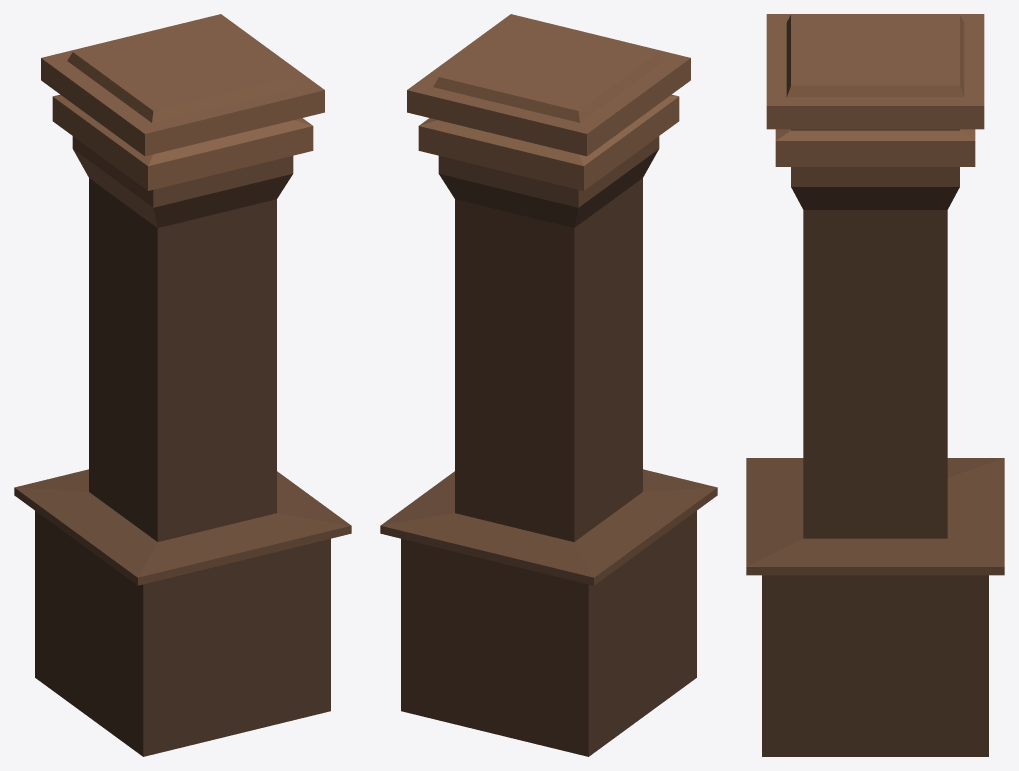
File: SM_Env_Port_Drydock_Small_Corner_01.fbx
3 renders of one model, left to right at view 1: azimuth 30°, elevation 25°; view 2: azimuth 150°, elevation 25°; view 3: azimuth 270°, elevation 25°, orthographic. The views are drawn at different scales.
Parts seen in each view (by area): view 1: SM_Env_Port_Drydock_Small_Corner_01; view 2: SM_Env_Port_Drydock_Small_Corner_01; view 3: SM_Env_Port_Drydock_Small_Corner_01.
Part boxes in pixels (bbox=[...]): SM_Env_Port_Drydock_Small_Corner_01: bbox=[14, 14, 351, 756]; SM_Env_Port_Drydock_Small_Corner_01: bbox=[380, 14, 717, 756]; SM_Env_Port_Drydock_Small_Corner_01: bbox=[746, 14, 1004, 756].
Size of the model in its own units: 210 by 592 by 210.
